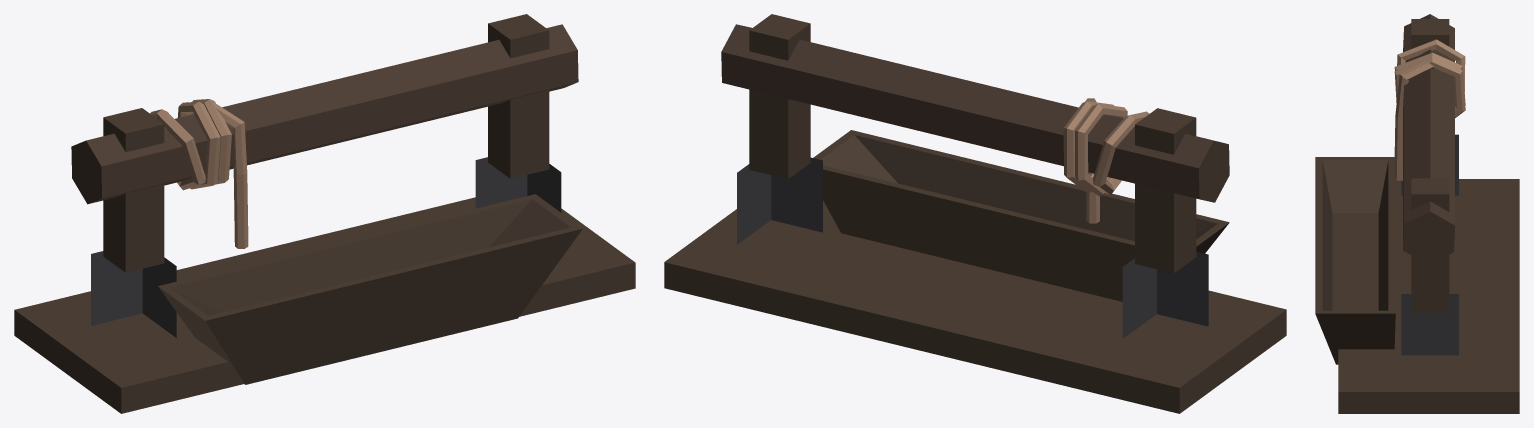
Rendered from fence.fbx.
3 renders of one model, left to right at view 1: azimuth 30°, elevation 25°; view 2: azimuth 150°, elevation 25°; view 3: azimuth 270°, elevation 25°, orthographic. The views are drawn at different scales.
Parts seen in each view (by area): view 1: Cube.142; view 2: Cube.142; view 3: Cube.142.
Boxes of the visible parts, box(x1,y1,x2,y2) form: Cube.142: box(14, 14, 635, 413); Cube.142: box(664, 14, 1286, 413); Cube.142: box(1315, 14, 1519, 413).
Bounding box in the file's own units: 770 × 343 × 312.
